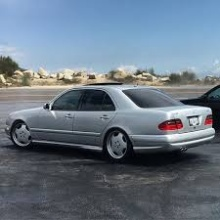no damage: (5, 81, 215, 163)
